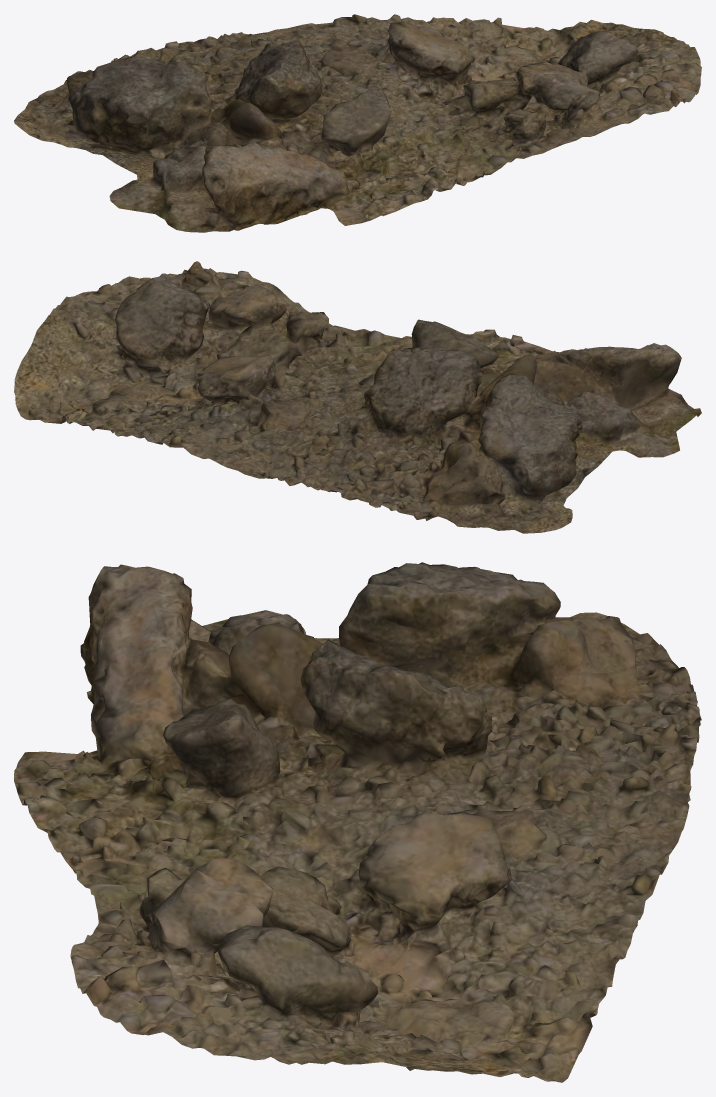
The model's file is coast_land_rocks_03.glb.
The picture shows the model from 3 angles, top to bottom: view 1: azimuth 30°, elevation 25°; view 2: azimuth 150°, elevation 25°; view 3: azimuth 270°, elevation 25°; orthographic projection. The views are drawn at different scales.
Parts seen in each view (by area): view 1: coast_land_rocks_03; view 2: coast_land_rocks_03; view 3: coast_land_rocks_03.
Part boxes in pixels (x1,y1,x2,y2): coast_land_rocks_03: (14, 14, 701, 232); coast_land_rocks_03: (14, 261, 701, 533); coast_land_rocks_03: (14, 562, 701, 1082).
Bounding box in the file's own units: 8.97 × 1.52 × 5.63.
1 material, 1 textured.
